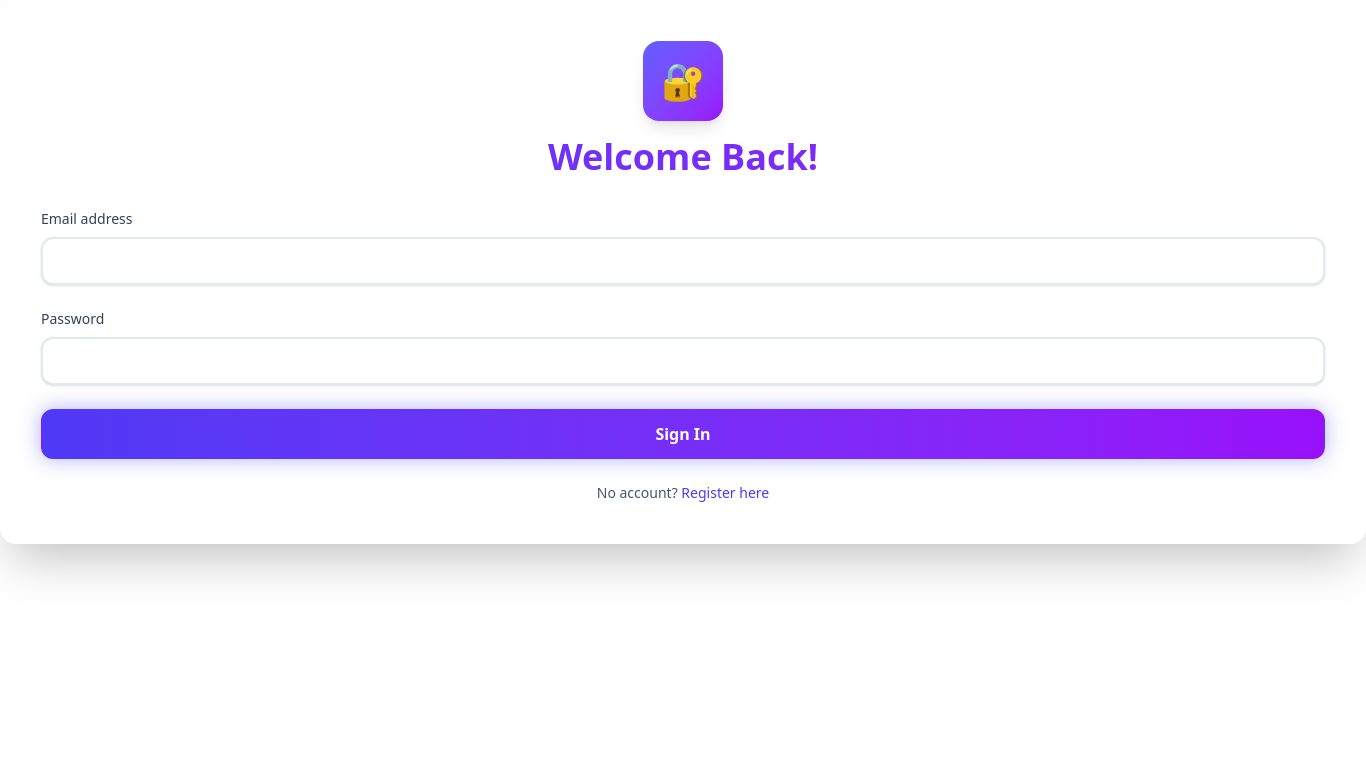
AuthForm › login mode › should show API error messages
The image size is (1366, 768).
In the field labelled "Email address": (683, 261) [41,237,1325,285], type "test@example.com"
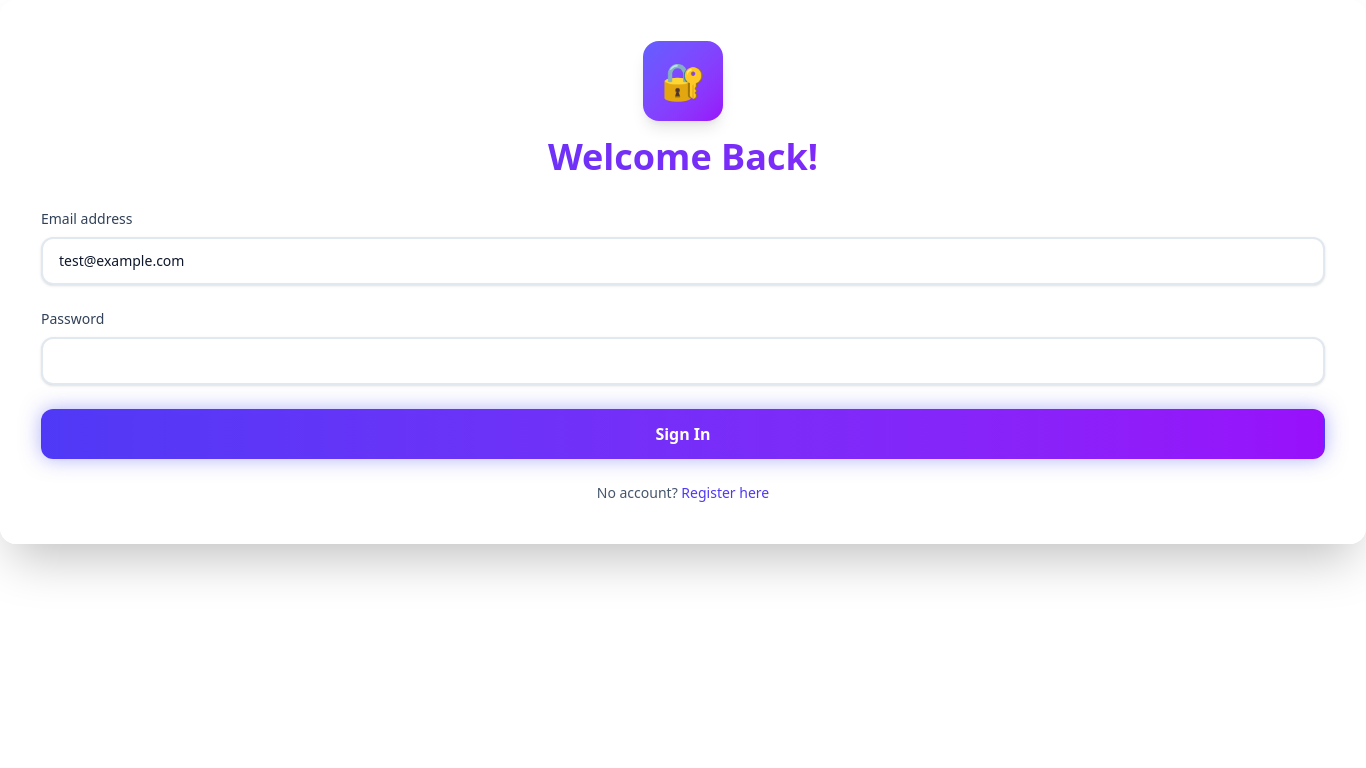
In the password field labelled "Password": (683, 361) [41,337,1325,385], type "wrongpassword"
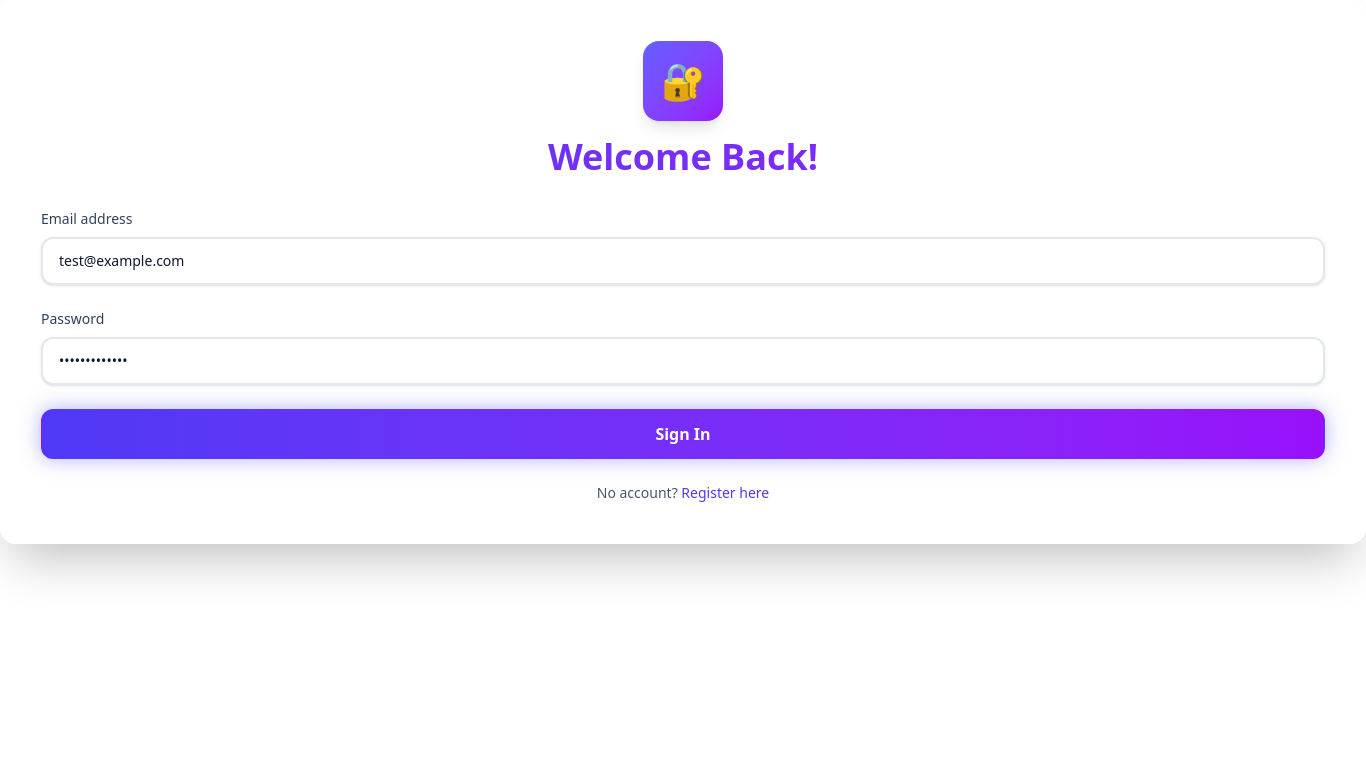
Submit the form, box [41,209,1325,503]
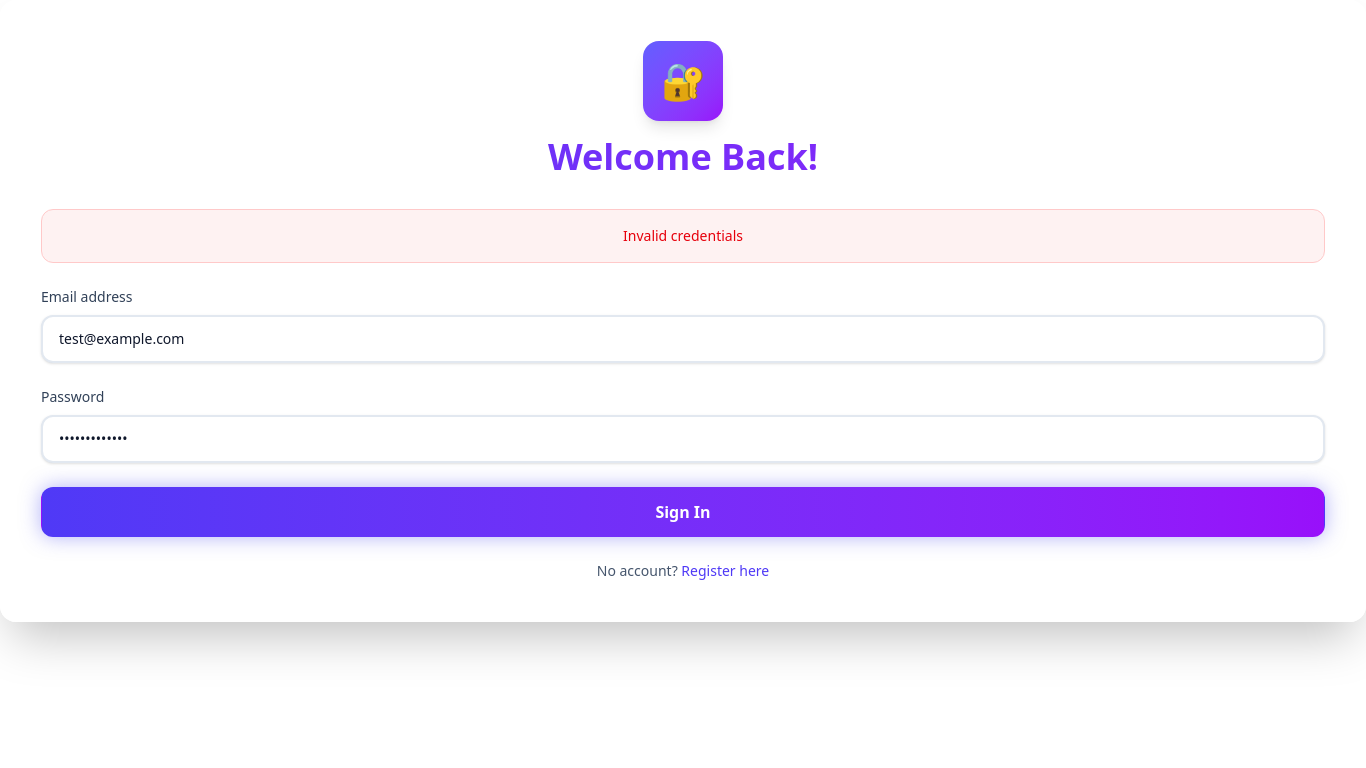
Now the text "Invalid credentials" is shown, box [41,209,1325,263]
